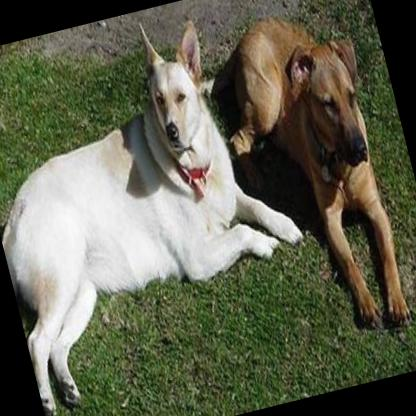dingo: (0, 0, 333, 416), (209, 0, 416, 354)
